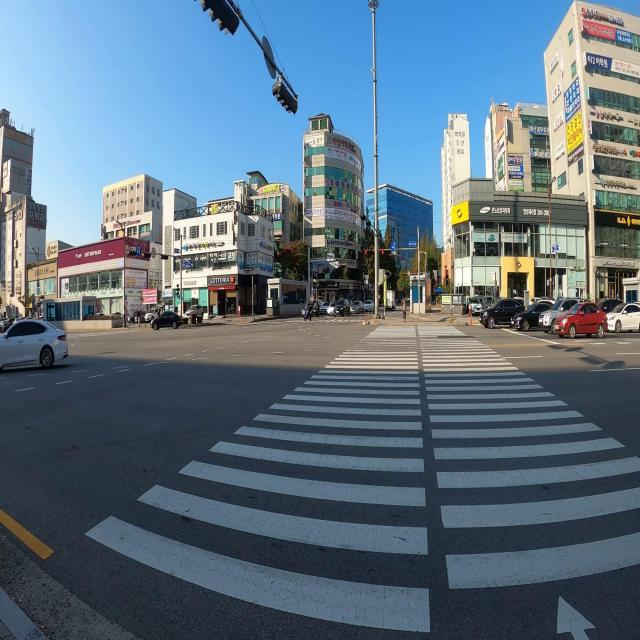crosswalk: (77, 323, 640, 639), (65, 331, 145, 340), (255, 319, 365, 323), (380, 305, 411, 309)
